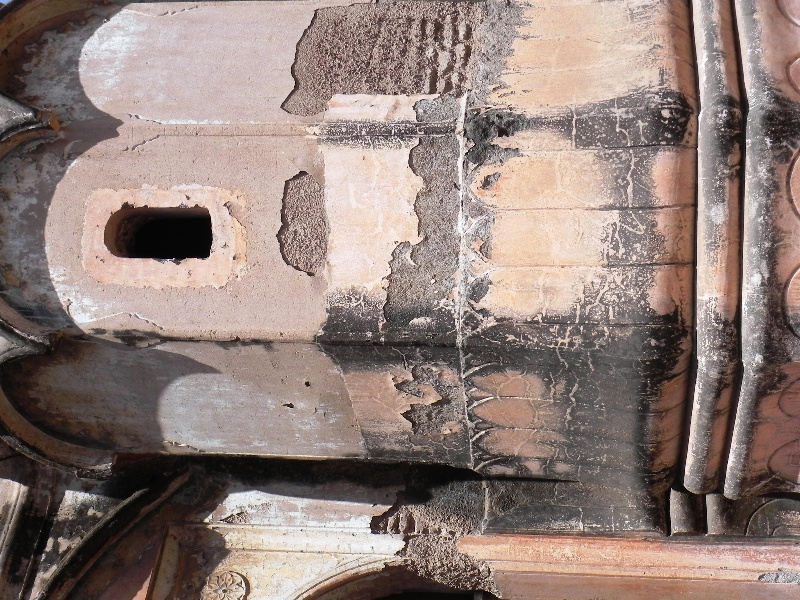Exposed Bricks: (409, 4, 477, 96)
Spalling: (377, 131, 467, 330), (360, 487, 504, 596), (269, 3, 397, 123), (268, 162, 334, 276)
